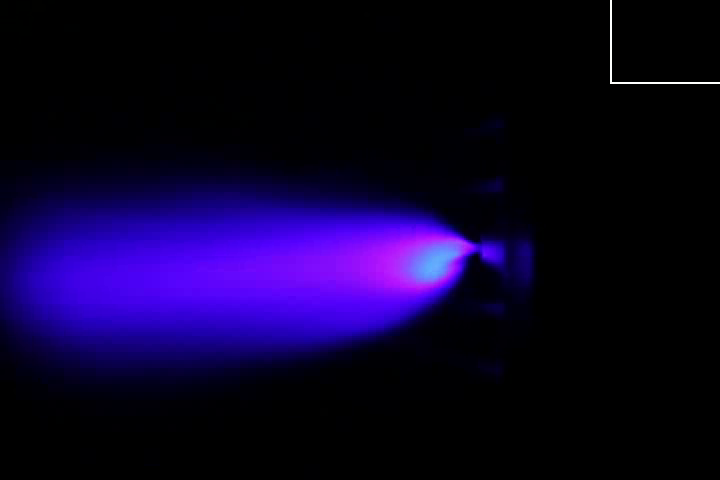burner cap: (480, 237, 507, 268)
stable: (368, 218, 477, 300)
